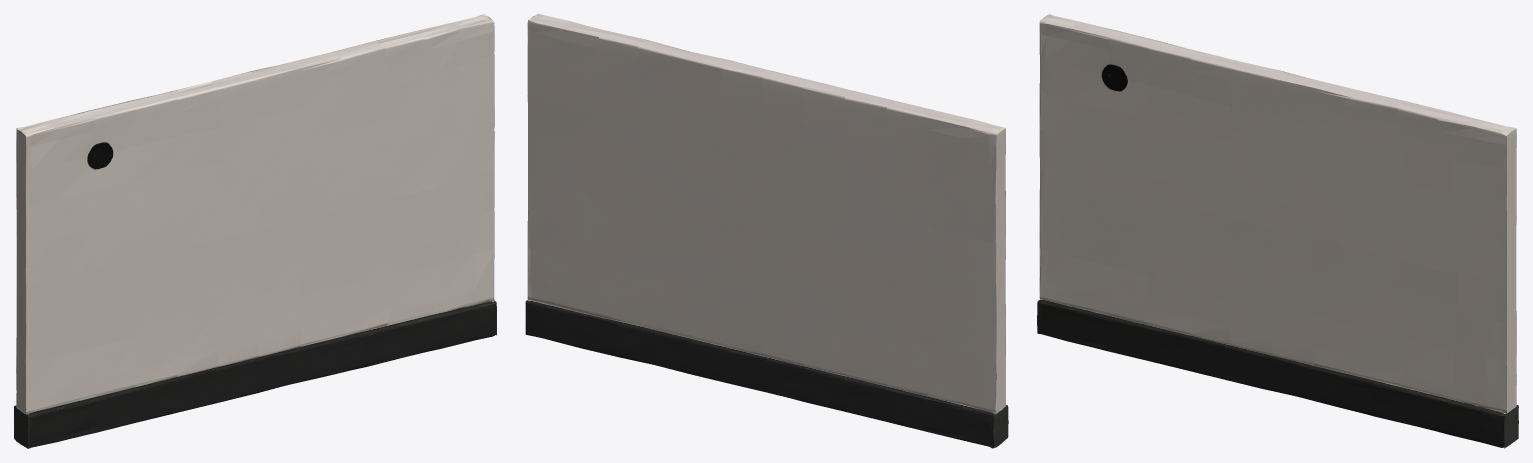
Rendered from concrete-wall.glb.
3 renders of one model, left to right at view 1: azimuth 30°, elevation 25°; view 2: azimuth 150°, elevation 25°; view 3: azimuth 330°, elevation 25°, orthographic.
Size of the model in its own units: 1 by 0.6406 by 0.0549.
Materials: 1 (1 with a texture image).
